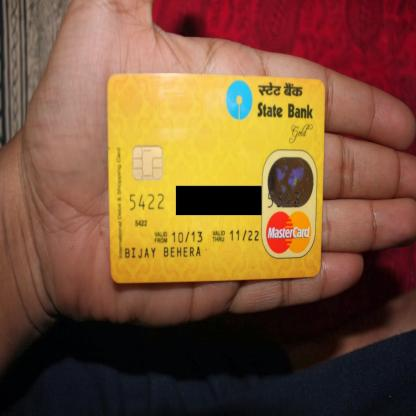tarjeta: (105, 72, 325, 283)
